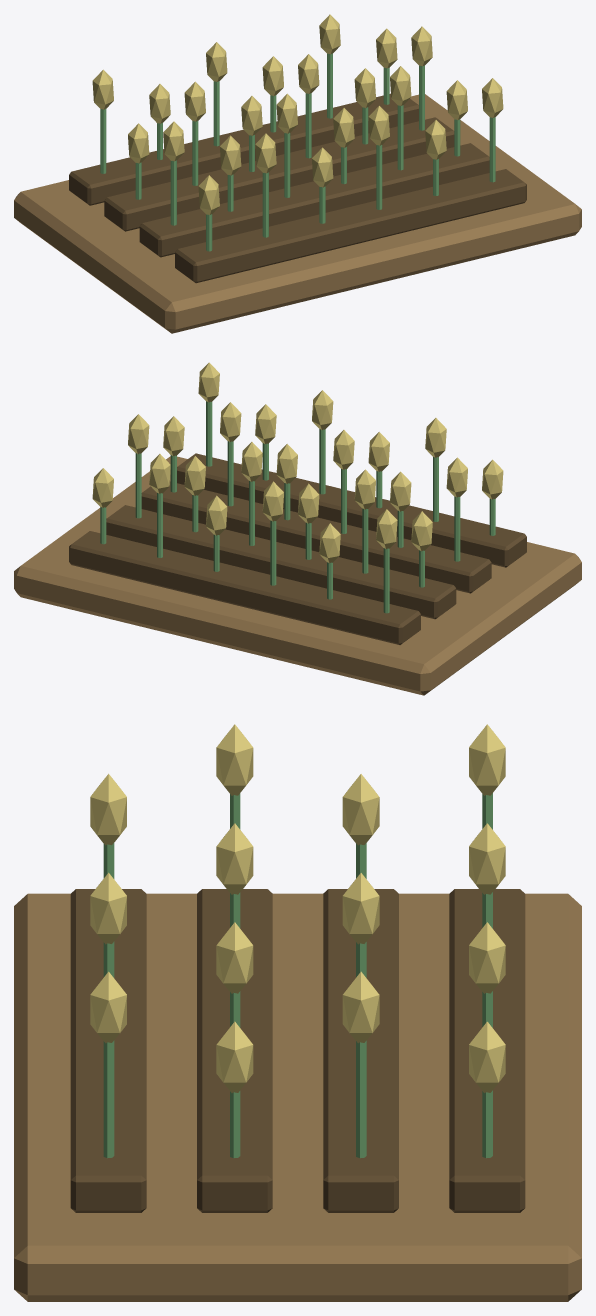
The model's file is harthmere_farm_crops.glb.
3 renders of one model, top to bottom at view 1: azimuth 30°, elevation 25°; view 2: azimuth 150°, elevation 25°; view 3: azimuth 270°, elevation 25°, orthographic. The views are drawn at different scales.
Size of the model in its own units: 2.5 by 0.8915 by 1.65.
